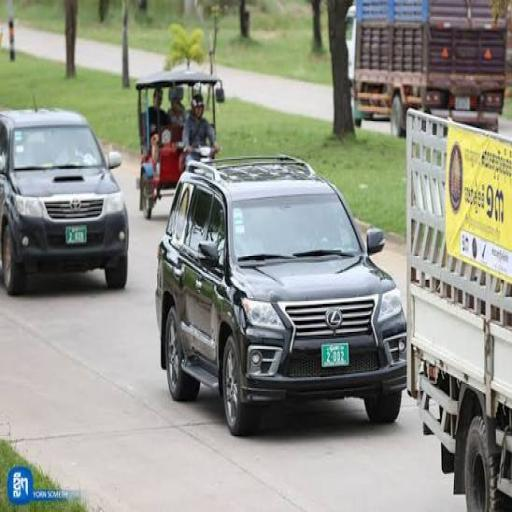Plate Number: (322, 342, 350, 366), (64, 226, 86, 244)
